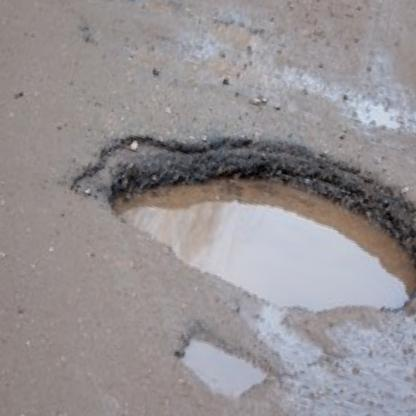pothole: (50, 83, 416, 351), (169, 324, 277, 409), (29, 0, 242, 28)
